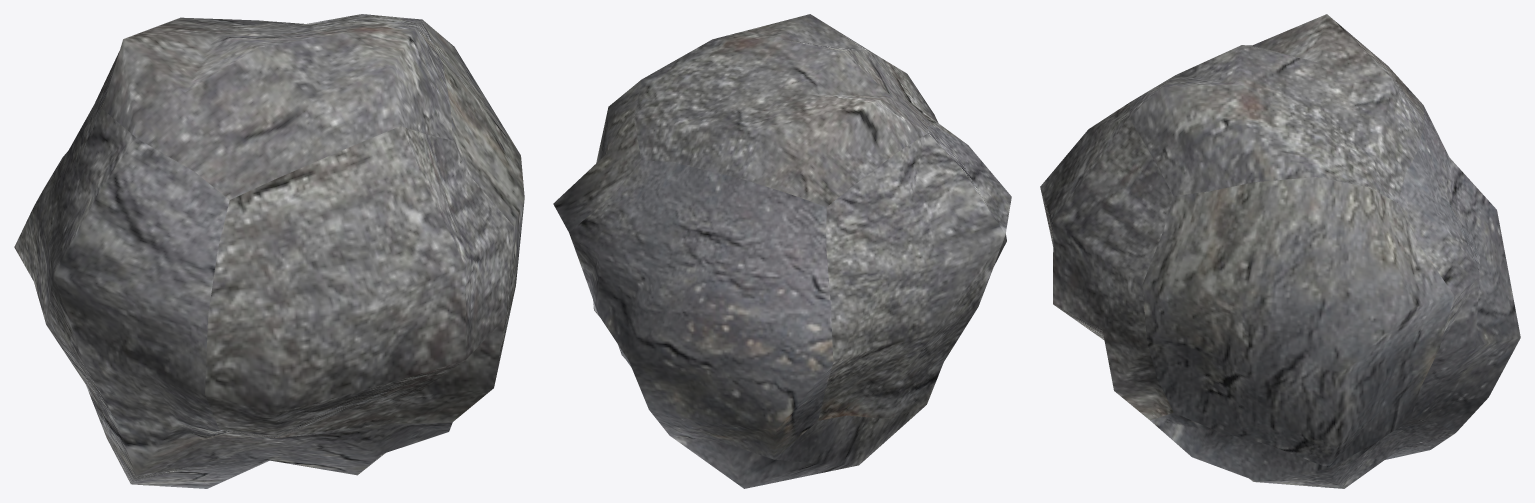
File: japanese_rock_04.FBX
The picture shows the model from 3 angles, left to right: view 1: azimuth 30°, elevation 25°; view 2: azimuth 150°, elevation 25°; view 3: azimuth 270°, elevation 25°; orthographic projection. The views are drawn at different scales.
Visible parts, largest first — view 1: rock_04; view 2: rock_04; view 3: rock_04.
Part boxes in pixels (x1,y1,x2,y2): rock_04: (14,14,524,488); rock_04: (553,14,1011,488); rock_04: (1040,14,1520,488).
Bounding box in the file's own units: 109 × 108 × 113.
